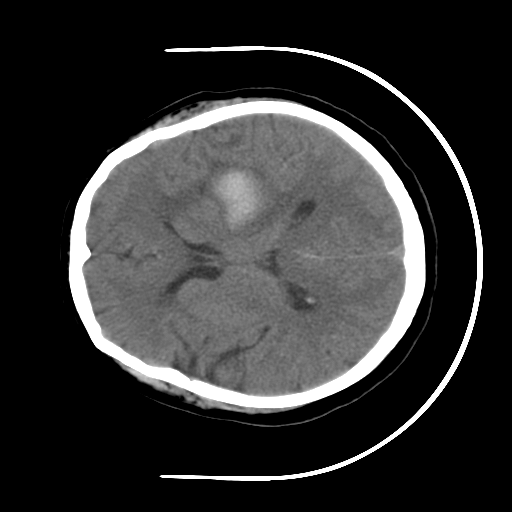a: (186, 147, 302, 248)
